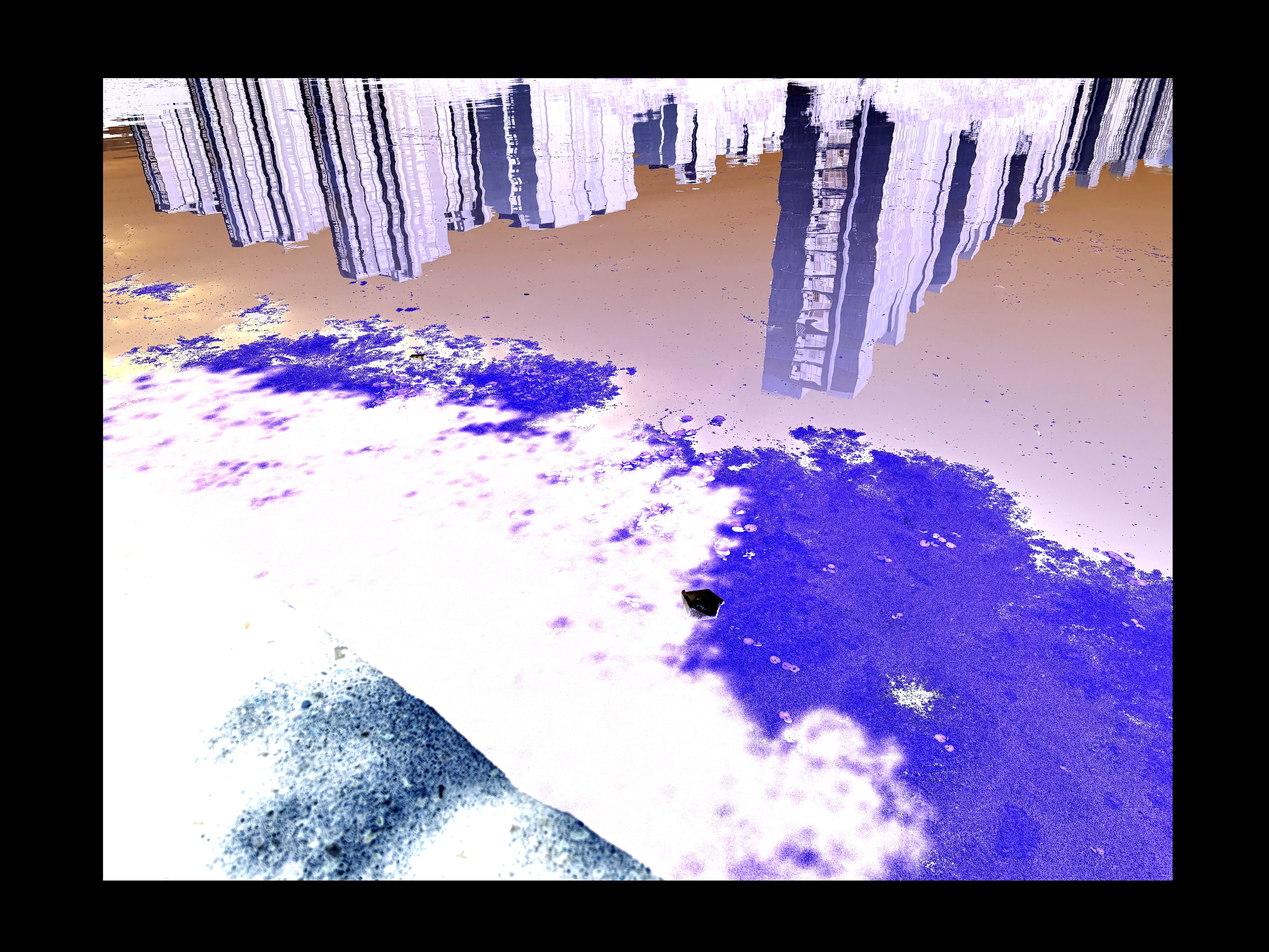Paper wastes: (409, 353, 427, 362)
Plastic wastes: (681, 589, 723, 619)
